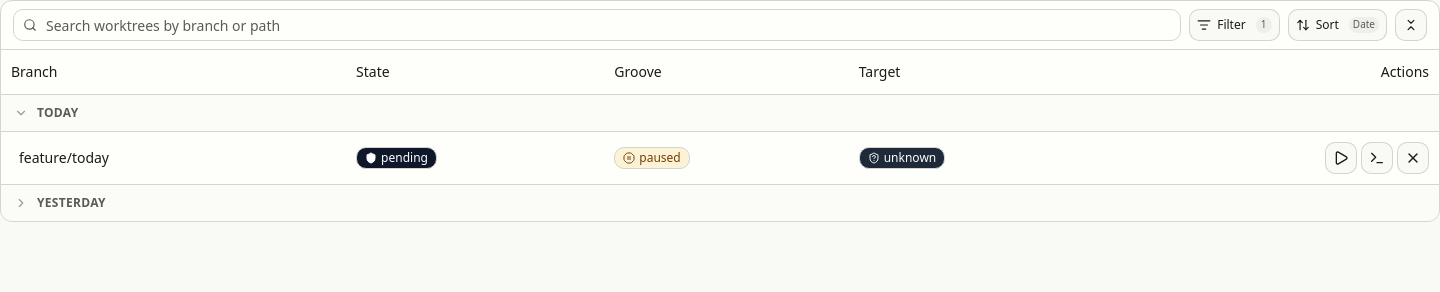
Test case: WorktreesTable › collapses older sections by default when Today is present
Expected: the text "feature/today" is shown, [19, 148, 109, 166]
Expected: the text "feature/yesterday" is not shown
Click the button named "Expand Yesterday section".
click(21, 202)  # box [11, 192, 31, 212]
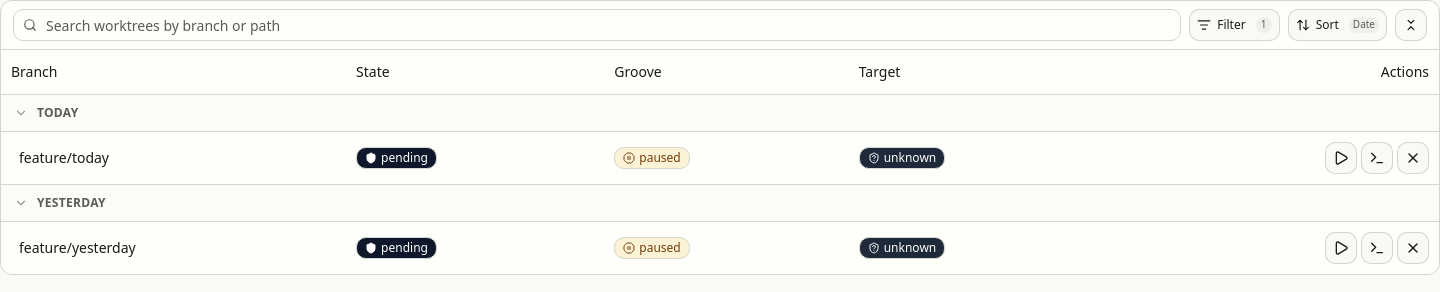
Result: the text "feature/yesterday" is shown at [19, 238, 136, 256]
